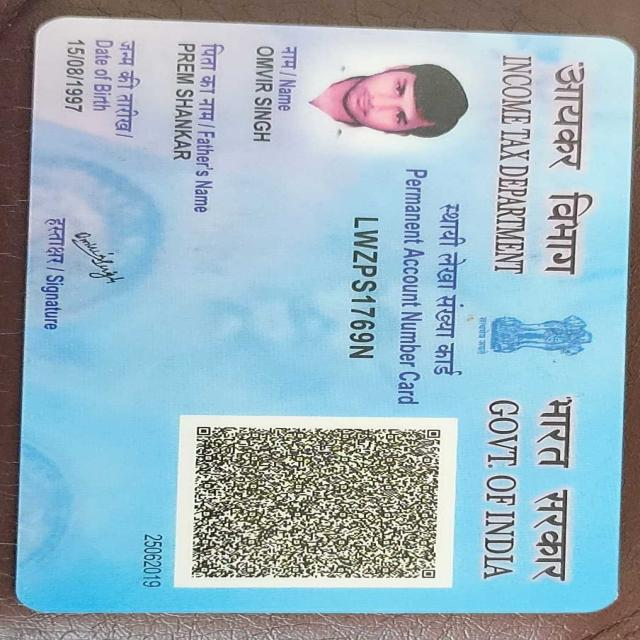pan_card: (17, 26, 630, 609)
